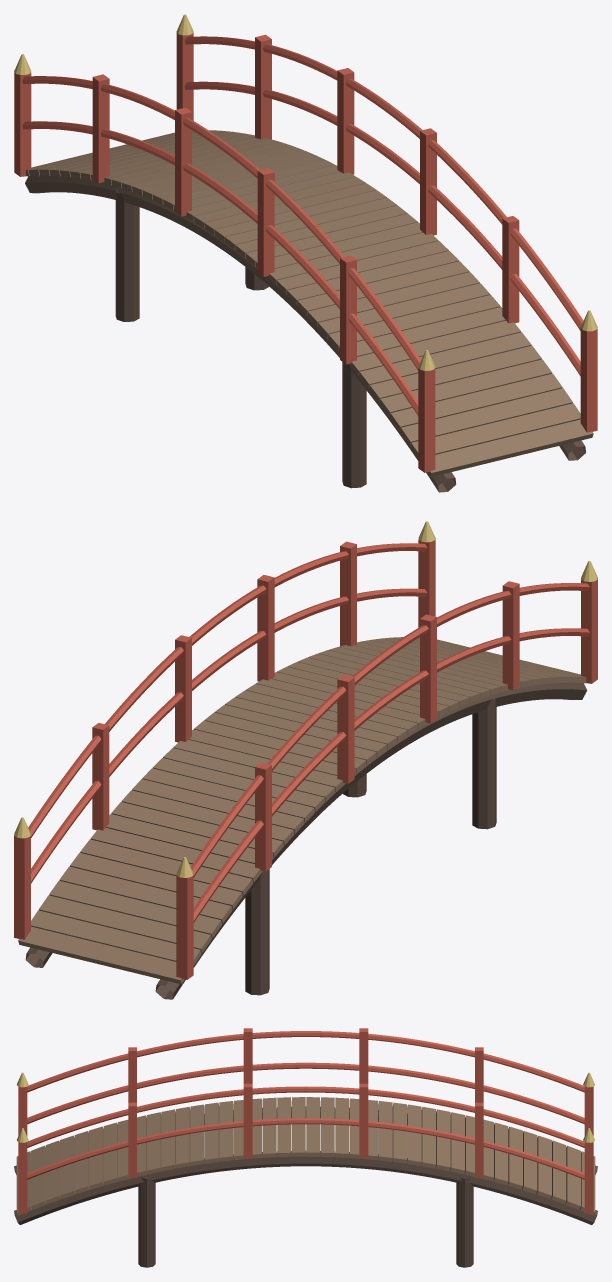
The model's file is bridge.glb.
3 renders of one model, top to bottom at view 1: azimuth 30°, elevation 25°; view 2: azimuth 150°, elevation 25°; view 3: azimuth 270°, elevation 25°, orthographic. The views are drawn at different scales.
Parts seen in each view (by area): view 1: Bridge; view 2: Bridge; view 3: Bridge.
Part boxes in pixels (x1=…): Bridge: x1=14, y1=14, x2=597, y2=492; Bridge: x1=14, y1=521, x2=597, y2=999; Bridge: x1=14, y1=1028, x2=597, y2=1267.
Bounding box in the file's own units: 1.64 × 2.32 × 6.67.
